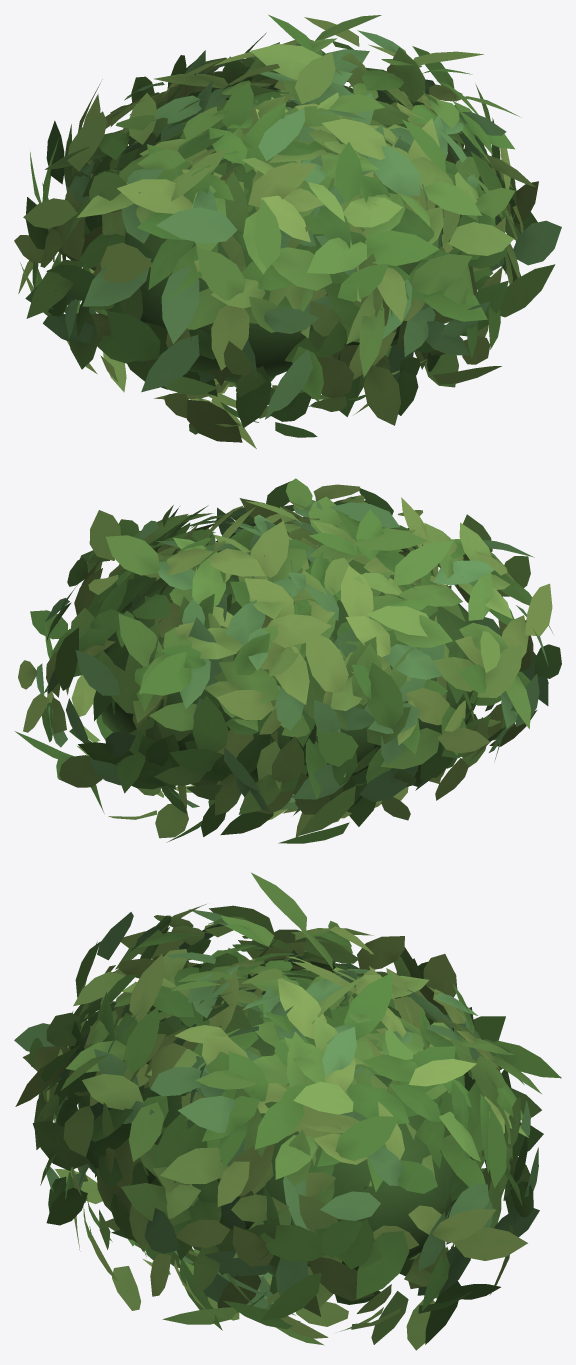
Rendered from bush_0.glb.
3 renders of one model, top to bottom at view 1: azimuth 30°, elevation 25°; view 2: azimuth 150°, elevation 25°; view 3: azimuth 270°, elevation 25°, orthographic. The views are drawn at different scales.
Visible parts, largest first — view 1: bush0; view 2: bush0; view 3: bush0.
Boxes of the visible parts, x1,y1,x2,y2 form: bush0: (14,14,561,448); bush0: (14,478,561,843); bush0: (14,872,561,1350).
Size of the model in its own units: 1.27 by 0.8035 by 1.15.
